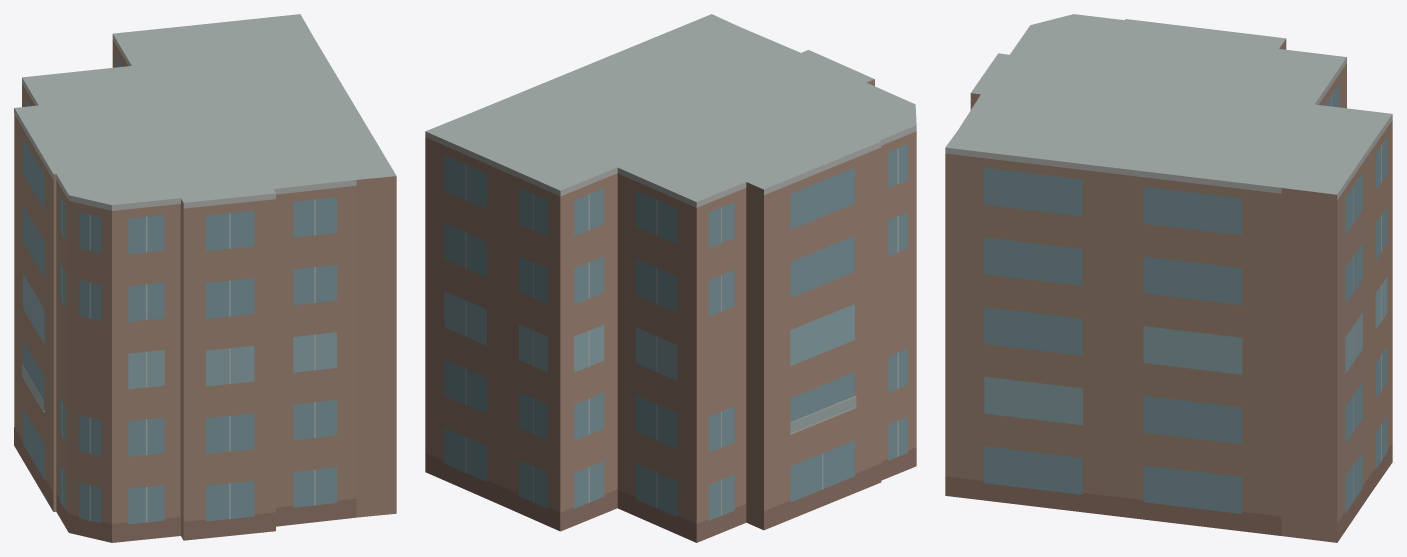
File: survey-upis-33003003.glb
The picture shows the model from 3 angles, left to right: view 1: azimuth 30°, elevation 25°; view 2: azimuth 150°, elevation 25°; view 3: azimuth 270°, elevation 25°; orthographic projection. The views are drawn at different scales.
Parts seen in each view (by area): view 1: survey-upis-33003003.tmp; view 2: survey-upis-33003003.tmp; view 3: survey-upis-33003003.tmp.
Boxes of the visible parts, <box> form: survey-upis-33003003.tmp: <box>14,14,396,542</box>; survey-upis-33003003.tmp: <box>425,14,916,542</box>; survey-upis-33003003.tmp: <box>945,14,1392,542</box>.
Bounding box in the file's own units: 16.1 × 14.45 × 16.84.
